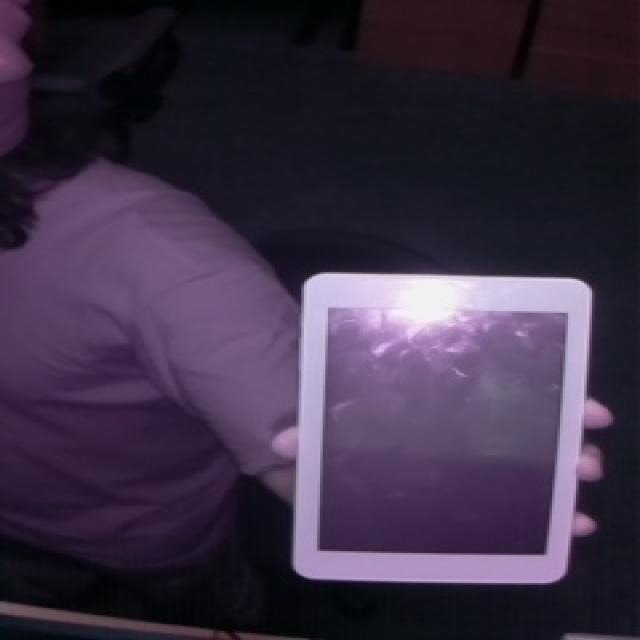phone: (286, 255, 606, 598)
